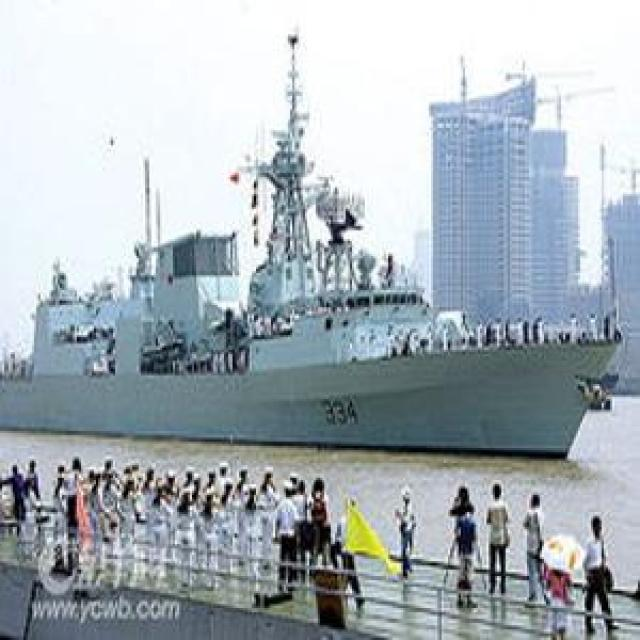navalvessels: (0, 26, 622, 459)
